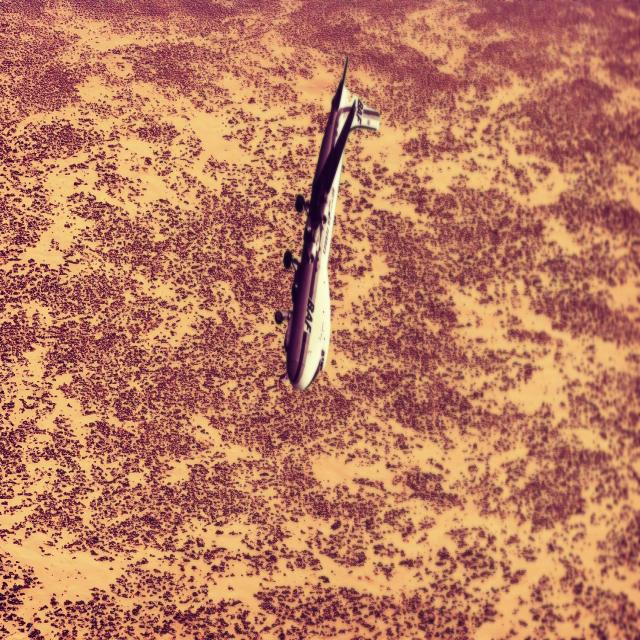airplane: (281, 53, 381, 392)
